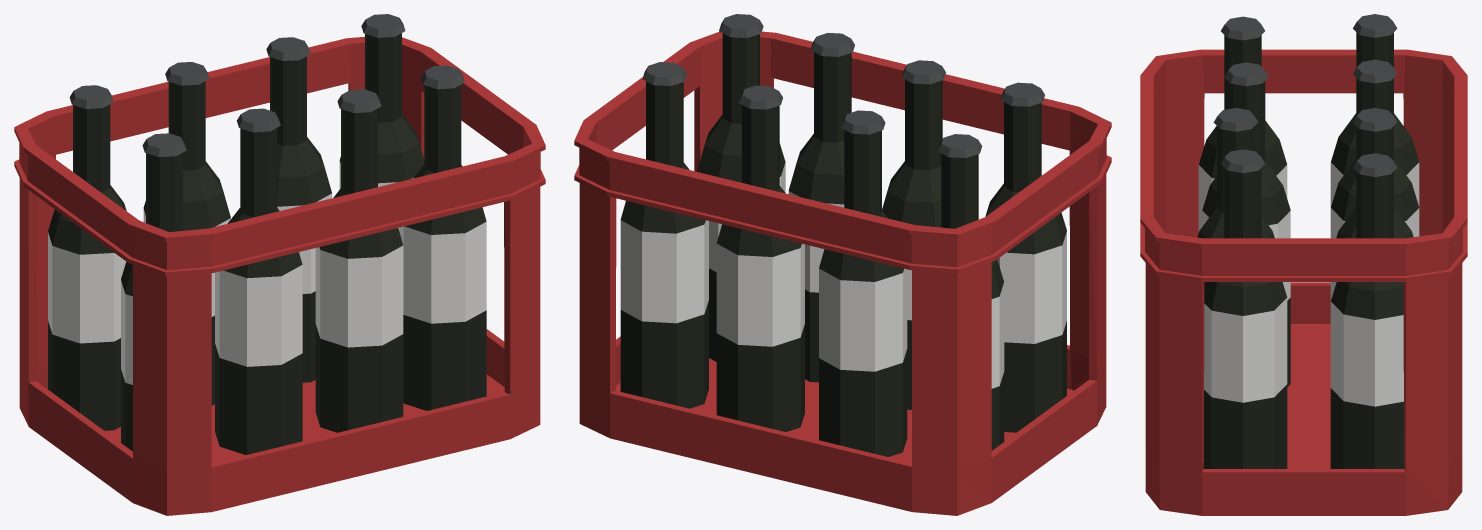
File: SM_bottlecase_full.fbx
The picture shows the model from 3 angles, left to right: view 1: azimuth 30°, elevation 25°; view 2: azimuth 150°, elevation 25°; view 3: azimuth 270°, elevation 25°; orthographic projection. The views are drawn at different scales.
Parts seen in each view (by area): view 1: Object032; view 2: Object032; view 3: Object032.
Boxes of the visible parts, box(x1,y1,x2,y2) form: Object032: box(14, 14, 545, 515); Object032: box(574, 14, 1111, 515); Object032: box(1140, 14, 1467, 515).
Size of the model in its own units: 23.37 by 16.61 by 18.31.
